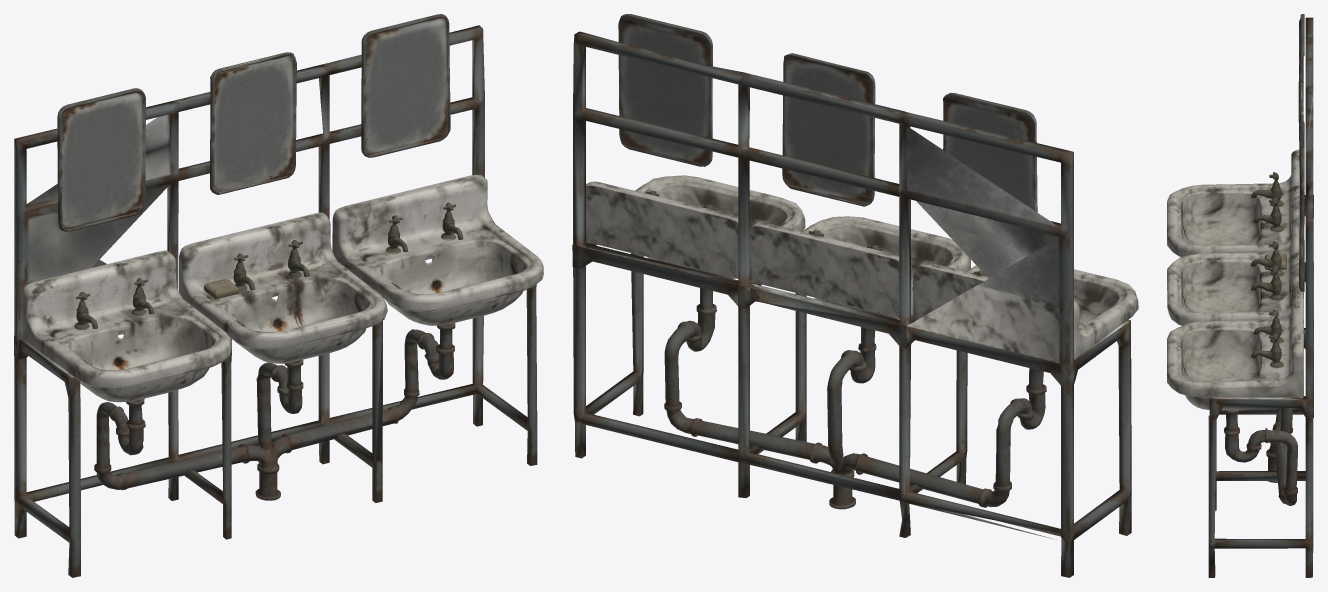
Rendered from silo81_sinks.glb.
The picture shows the model from 3 angles, left to right: view 1: azimuth 30°, elevation 25°; view 2: azimuth 150°, elevation 25°; view 3: azimuth 270°, elevation 25°; orthographic projection. The views are drawn at different scales.
Bounding box in the file's own units: 0.957 × 0.8325 × 0.2905.
Materials: 1 (1 with a texture image).
